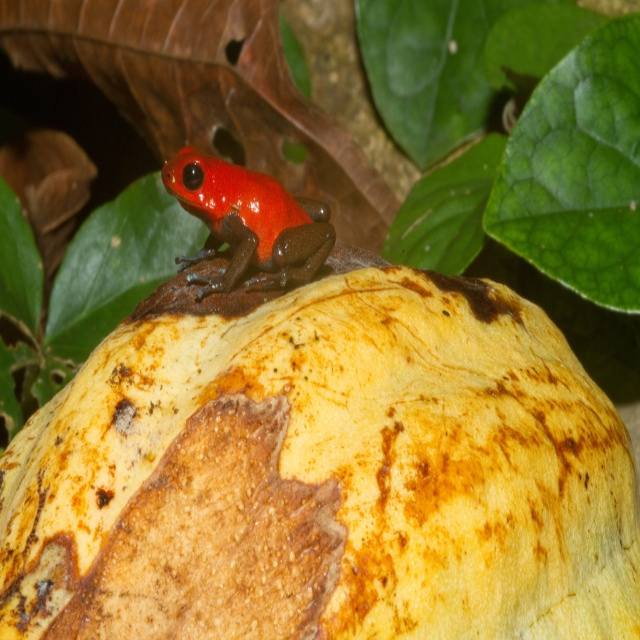Frog: (158, 146, 335, 302)
